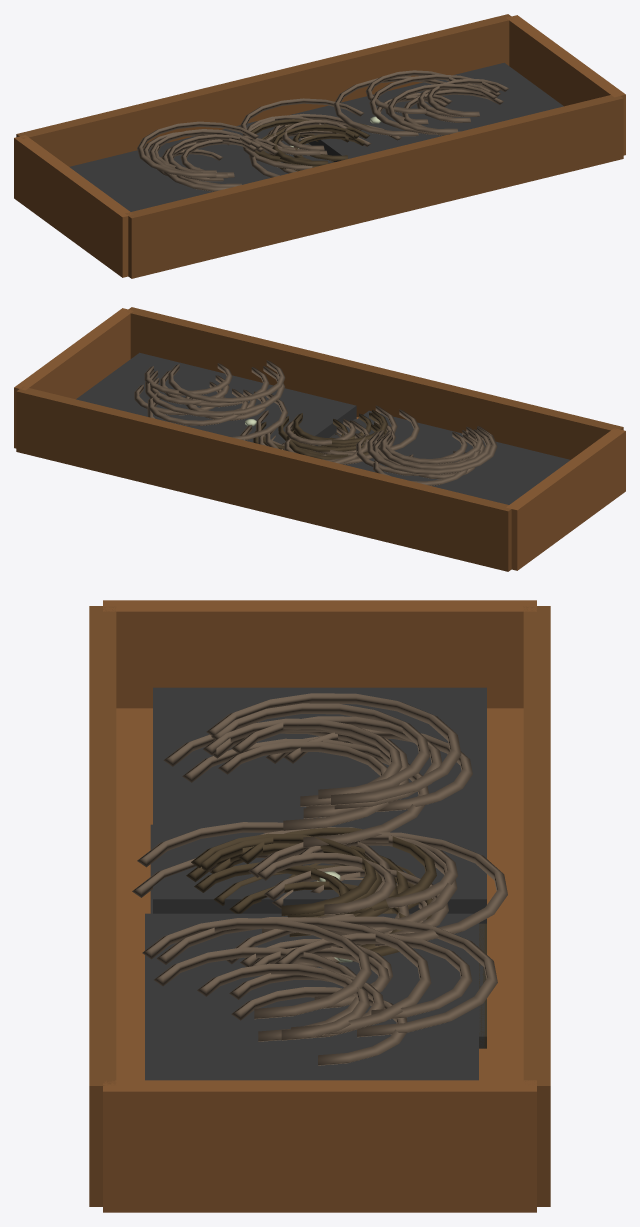
Rendered from Noodle_Buckwheat.fbx.
The picture shows the model from 3 angles, top to bottom: view 1: azimuth 30°, elevation 25°; view 2: azimuth 150°, elevation 25°; view 3: azimuth 270°, elevation 25°; orthographic projection. The views are drawn at different scales.
Visible parts, largest first — view 1: Noodle_Buckwheat__Stack, Noodle_Buckwheat, Noodle_Buckwheat__Rotten; view 2: Noodle_Buckwheat__Stack, Noodle_Buckwheat, Noodle_Buckwheat__Rotten; view 3: Noodle_Buckwheat__Stack, Noodle_Buckwheat, Noodle_Buckwheat__Rotten.
Boxes of the visible parts, x1,y1,x2,y2 form: Noodle_Buckwheat__Stack: (14, 14, 625, 278); Noodle_Buckwheat: (240, 98, 401, 177); Noodle_Buckwheat__Rotten: (250, 116, 381, 171); Noodle_Buckwheat__Stack: (14, 307, 625, 571); Noodle_Buckwheat: (240, 405, 419, 464); Noodle_Buckwheat__Rotten: (245, 410, 387, 459); Noodle_Buckwheat__Stack: (89, 600, 550, 1212); Noodle_Buckwheat: (132, 822, 507, 1048); Noodle_Buckwheat__Rotten: (186, 827, 486, 1048).
Bounding box in the file's own units: 0.348 × 0.04 × 0.138.
